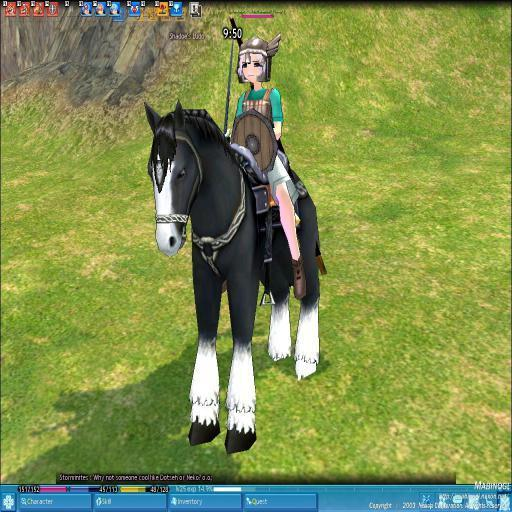horse: (143, 100, 321, 456)
